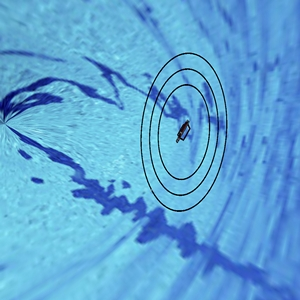circle: (134, 40, 239, 216)
submarine: (171, 112, 198, 154)
